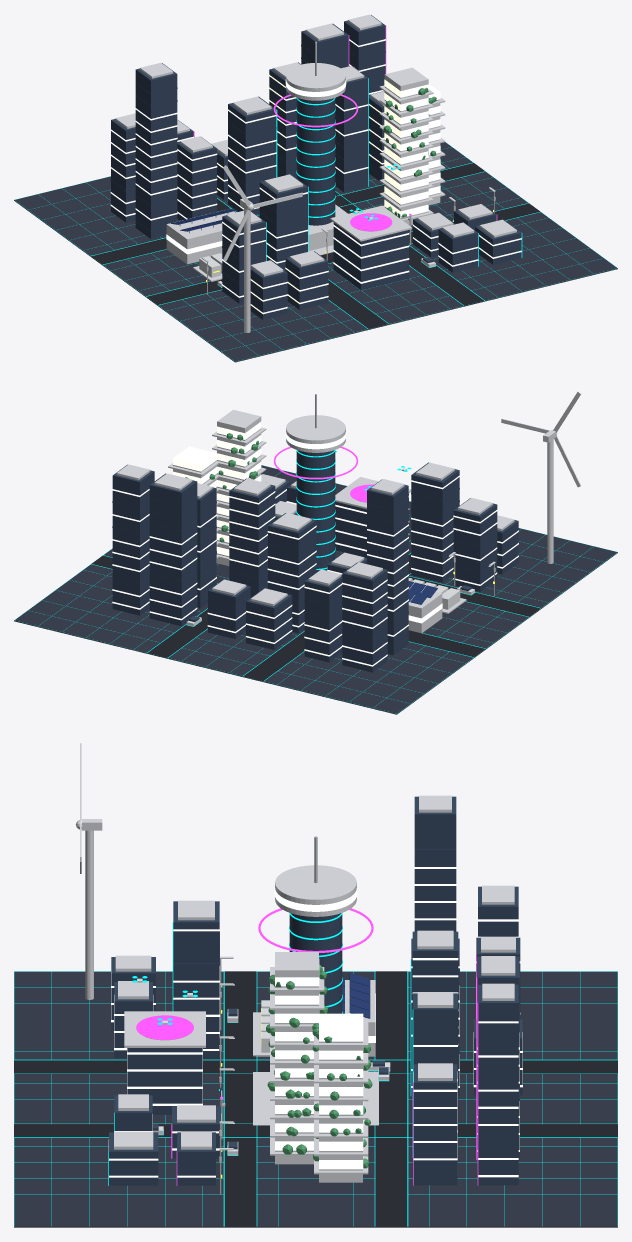
File: 未來城市.glb
3 renders of one model, top to bottom at view 1: azimuth 30°, elevation 25°; view 2: azimuth 150°, elevation 25°; view 3: azimuth 270°, elevation 25°, orthographic. The views are drawn at different scales.
Visible parts, largest first — view 1: 城市地面, 城市營運中心, 城市大樓_8, 垂直森林大樓, 道路網路, 無人機起降站, 城市大樓_0, 城市大樓_4, 城市大樓_19, 城市大樓_10, 城市大樓_9, 城市大樓_17 (+17 smaller); view 2: 城市地面, 城市大樓_5, 城市營運中心, 城市大樓_7, 城市大樓_8, 城市大樓_19, 城市大樓_9, 城市大樓_2, 道路網路, 垂直森林大樓, 城市大樓_0, 城市大樓_17 (+13 smaller); view 3: 城市地面, 道路網路, 垂直森林大樓, 垂直森林大樓_副棟, 城市大樓_7, 城市營運中心, 無人機起降站, 城市大樓_19, 城市大樓_8, 城市大樓_6, 地面網格, 城市大樓_4 (+15 smaller).
Part boxes in pixels (x1=…): 城市地面: x1=14, y1=142, x2=617, y2=362; 城市營運中心: x1=285, y1=41, x2=347, y2=255; 城市大樓_8: x1=135, y1=62, x2=177, y2=238; 垂直森林大樓: x1=379, y1=67, x2=433, y2=225; 道路網路: x1=91, y1=162, x2=540, y2=328; 無人機起降站: x1=330, y1=205, x2=411, y2=290; 城市大樓_0: x1=228, y1=96, x2=277, y2=214; 城市大樓_4: x1=335, y1=66, x2=368, y2=192; 城市大樓_19: x1=259, y1=174, x2=308, y2=270; 城市大樓_10: x1=177, y1=136, x2=217, y2=220; 城市大樓_9: x1=110, y1=113, x2=135, y2=222; 城市大樓_17: x1=222, y1=210, x2=266, y2=303; 城市地面: x1=14, y1=465, x2=617, y2=714; 城市大樓_5: x1=149, y1=473, x2=197, y2=626; 城市營運中心: x1=285, y1=394, x2=346, y2=572; 城市大樓_7: x1=112, y1=464, x2=154, y2=615; 城市大樓_8: x1=367, y1=479, x2=408, y2=655; 城市大樓_19: x1=411, y1=462, x2=459, y2=582; 城市大樓_9: x1=342, y1=562, x2=387, y2=672; 城市大樓_2: x1=229, y1=478, x2=275, y2=597; 道路網路: x1=91, y1=553, x2=540, y2=681; 垂直森林大樓: x1=212, y1=409, x2=266, y2=565; 城市大樓_0: x1=267, y1=512, x2=316, y2=633; 城市大樓_17: x1=453, y1=498, x2=497, y2=591; 城市地面: x1=14, y1=971, x2=617, y2=1227; 道路網路: x1=14, y1=971, x2=617, y2=1226; 垂直森林大樓: x1=266, y1=952, x2=327, y2=1164; 垂直森林大樓_副棟: x1=312, y1=1013, x2=372, y2=1182; 城市大樓_7: x1=477, y1=983, x2=518, y2=1185; 城市營運中心: x1=253, y1=836, x2=378, y2=1125; 無人機起降站: x1=124, y1=1011, x2=205, y2=1114; 城市大樓_19: x1=172, y1=900, x2=219, y2=1058; 城市大樓_8: x1=414, y1=795, x2=456, y2=931; 城市大樓_6: x1=413, y1=1063, x2=457, y2=1185; 地面網格: x1=14, y1=971, x2=617, y2=1226; 城市大樓_4: x1=412, y1=992, x2=457, y2=1157.
Size of the model in its own units: 96.05 by 46.2 by 96.05.
